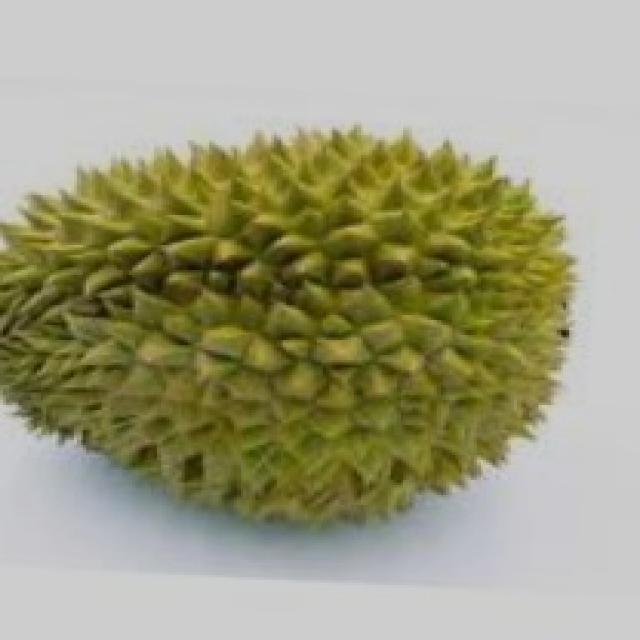fruit: (274, 202, 634, 590), (0, 205, 354, 593)
